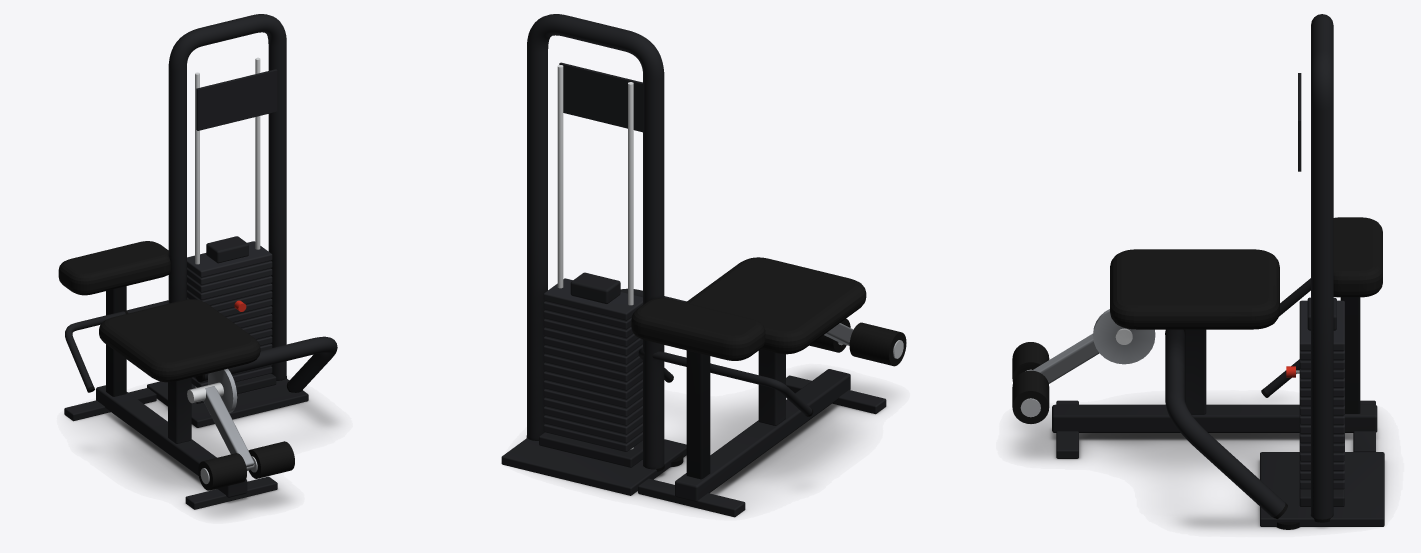
File: leg-curl.glb
The picture shows the model from 3 angles, left to right: view 1: azimuth 30°, elevation 25°; view 2: azimuth 150°, elevation 25°; view 3: azimuth 270°, elevation 25°; orthographic projection. The views are drawn at different scales.
Visible parts, largest first — view 1: Arco, Almofada_Principal, Sombra_Contacto, Almofada_Apoio, Placa_Nome, Calha_Base, Base, Tubo_Ligacao, Poste_Apoio, Poste_Assento, Braco, Espuma (+14 smaller); view 2: Arco, Almofada_Principal, Sombra_Contacto, Almofada_Apoio, Calha_Base, Base, Placa_Nome, Poste_Apoio, Espuma, Poste_Assento, Placa_5kg, Batente (+21 smaller); view 3: Almofada_Principal, Arco, Sombra_Contacto, Calha_Base, Base, Tubo_Ligacao, Almofada_Apoio, Came, Poste_Apoio, Poste_Assento, Espuma_1, Braco (+4 smaller).
Part boxes in pixels (left/top/right/bottom): Arco: left=168, top=14, right=286, bottom=380; Almofada_Principal: left=99, top=299, right=260, bottom=382; Sombra_Contacto: left=68, top=398, right=337, bottom=516; Almofada_Apoio: left=58, top=241, right=170, bottom=295; Placa_Nome: left=196, top=69, right=277, bottom=130; Calha_Base: left=96, top=385, right=247, bottom=497; Base: left=147, top=378, right=308, bottom=427; Tubo_Ligacao: left=204, top=336, right=337, bottom=392; Poste_Apoio: left=106, top=286, right=126, bottom=396; Poste_Assento: left=168, top=377, right=191, bottom=443; Braco: left=203, top=386, right=254, bottom=470; Espuma: left=198, top=453, right=246, bottom=490; Arco: left=527, top=14, right=664, bottom=468; Almofada_Principal: left=686, top=257, right=866, bottom=354; Sombra_Contacto: left=540, top=371, right=889, bottom=515; Almofada_Apoio: left=631, top=298, right=765, bottom=360; Calha_Base: left=675, top=369, right=850, bottom=502; Base: left=501, top=438, right=686, bottom=495; Placa_Nome: left=559, top=62, right=642, bottom=132; Poste_Apoio: left=686, top=350, right=710, bottom=479; Espuma: left=849, top=322, right=906, bottom=366; Poste_Assento: left=758, top=349, right=785, bottom=425; Placa_5kg: left=543, top=278, right=642, bottom=320; Batente: left=539, top=432, right=642, bottom=467; Almofada_Principal: left=1110, top=249, right=1279, bottom=329; Arco: left=1311, top=14, right=1333, bottom=519; Sombra_Contacto: left=1014, top=403, right=1386, bottom=530; Calha_Base: left=1052, top=404, right=1377, bottom=432; Base: left=1260, top=452, right=1384, bottom=526; Tubo_Ligacao: left=1165, top=329, right=1285, bottom=517; Almofada_Apoio: left=1333, top=217, right=1382, bottom=297; Came: left=1093, top=309, right=1155, bottom=364; Poste_Apoio: left=1340, top=297, right=1360, bottom=413; Poste_Assento: left=1184, top=329, right=1206, bottom=414; Espuma_1: left=1012, top=370, right=1049, bottom=423; Braco: left=1032, top=333, right=1099, bottom=383.
Size of the model in its own units: 1.28 by 1.79 by 1.47.
Materials: 9 (1 with a texture image).
